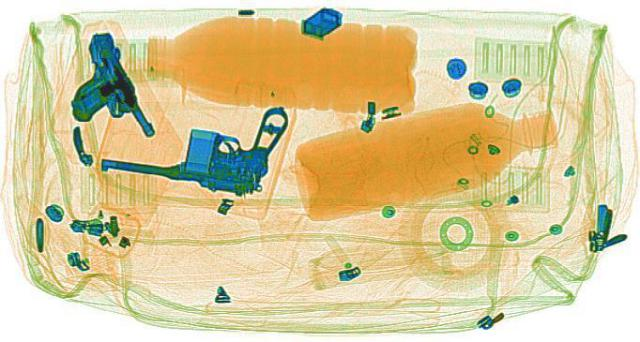Gun: (92, 83, 316, 194), (34, 31, 160, 142)
